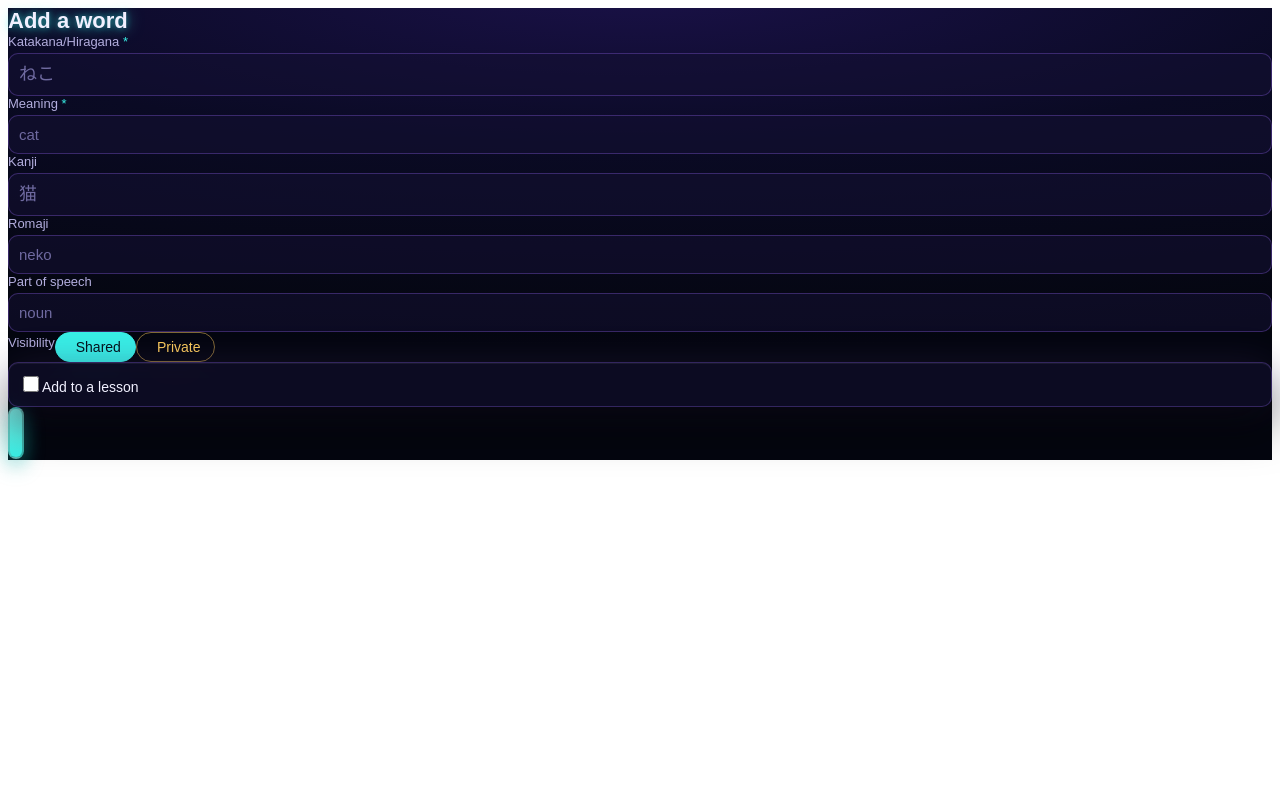
Scenario: AddWordPage › renders the required fields and hides source/lesson until 'add to a lesson'
Expected: the field with test id "field-reading" is shown, [8, 53, 1272, 96]
Expected: the field with test id "field-meaning" is shown, [8, 115, 1272, 154]
Click the checkbox with test id "add-to-lesson": (31, 384) [23, 376, 39, 392]
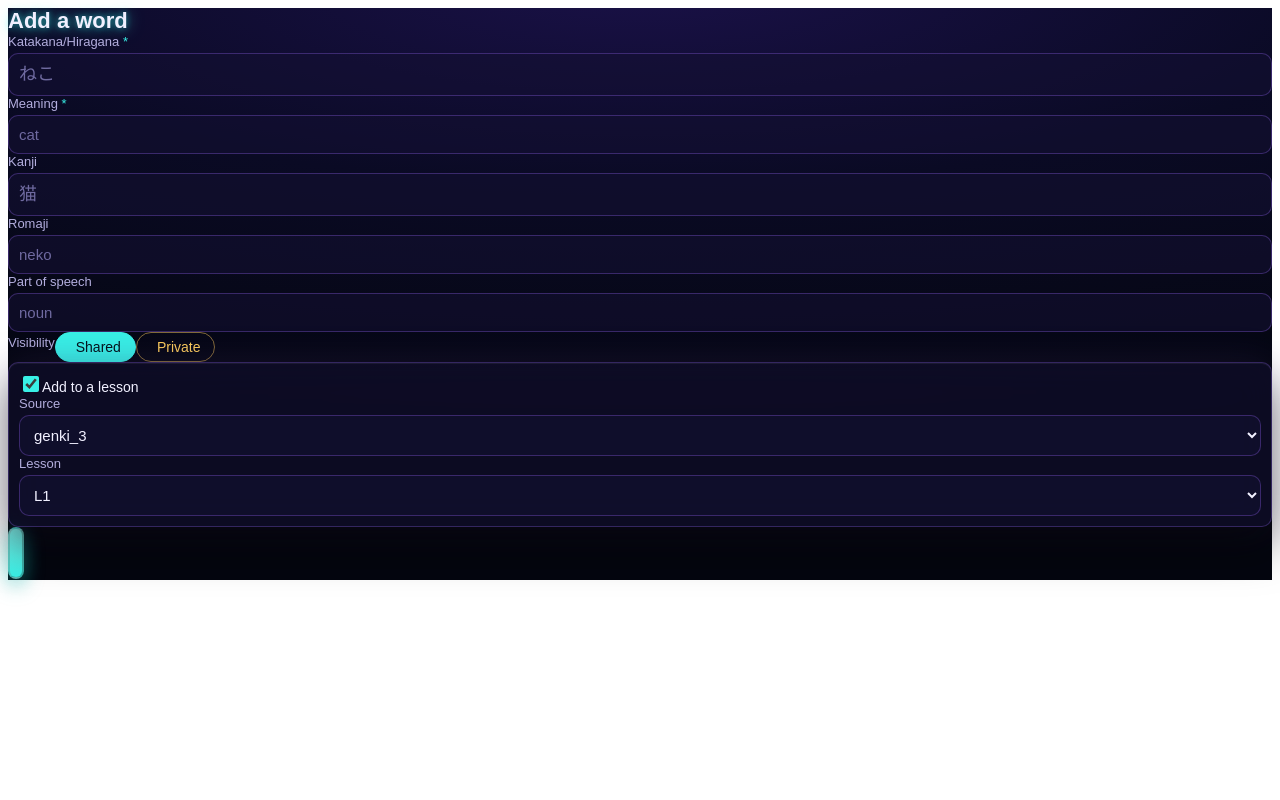
Expected: the dropdown with test id "field-source" is shown, [19, 415, 1261, 456]
Expected: the dropdown with test id "field-lesson" is shown, [19, 475, 1261, 516]
